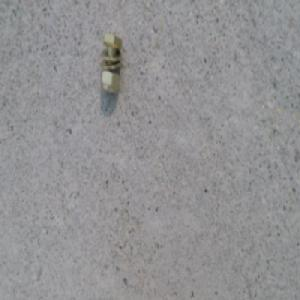BoltNutSet: (90, 25, 114, 91)
